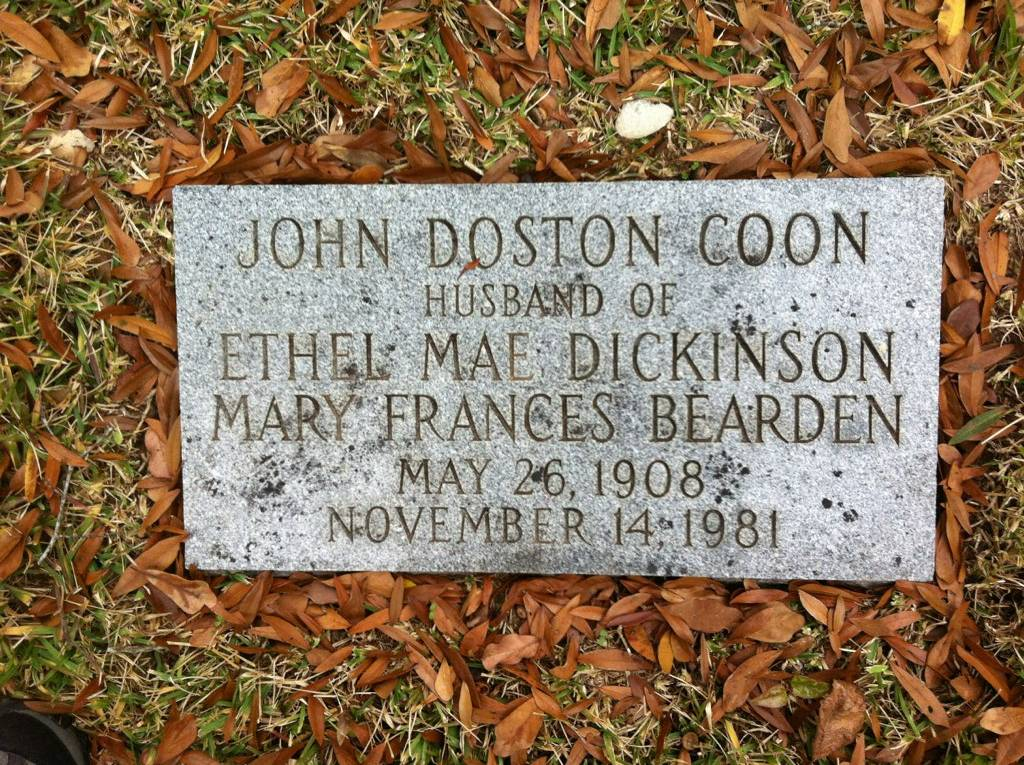flat: (165, 175, 938, 583)
